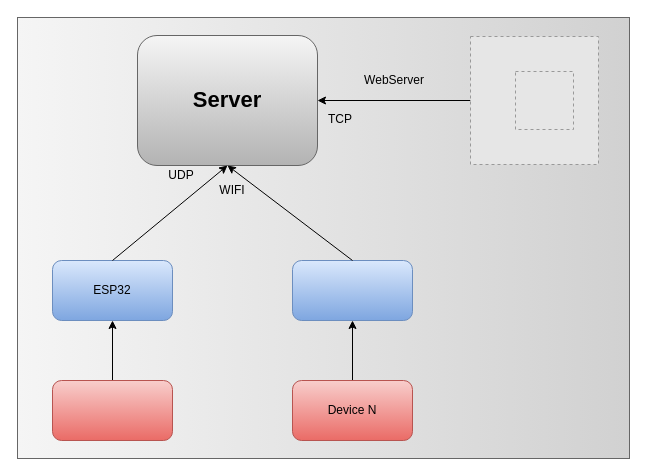
Image size: 647x476. Some labels were removed from this diagram. Grey dashed boxes stand in for pictures. The shapes that lost their labels are listed below. From the top down, each one's centre as x and y in pixels, then its label:
point (352, 290): ESP32 N
point (112, 410): Device 1
